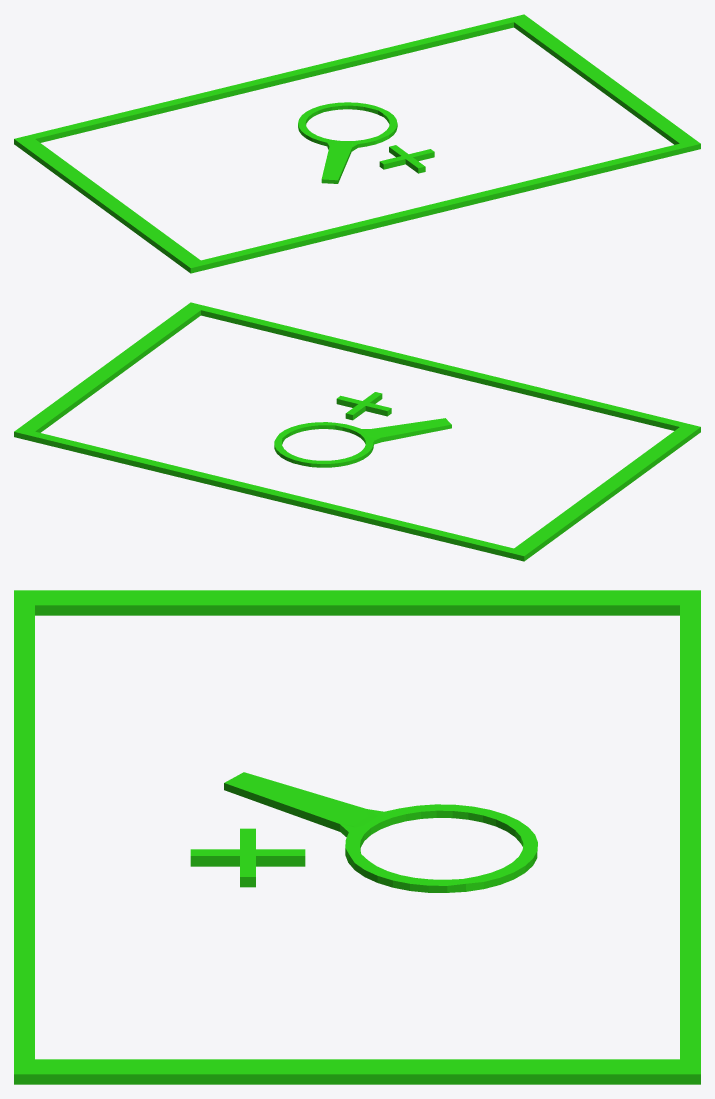
File: zoomPicturePlate.gltf
The picture shows the model from 3 angles, top to bottom: view 1: azimuth 30°, elevation 25°; view 2: azimuth 150°, elevation 25°; view 3: azimuth 270°, elevation 25°; orthographic projection. The views are drawn at different scales.
Parts seen in each view (by area): view 1: Cube.003, Cylindre, Cube.001; view 2: Cube.003, Cylindre, Cube.001; view 3: Cube.003, Cylindre, Cube.001.
Boxes of the visible parts, x1,y1,x2,y2 form: Cube.003: (14, 14, 700, 273); Cylindre: (298, 102, 397, 183); Cube.001: (379, 145, 434, 173); Cube.003: (14, 302, 700, 561); Cylindre: (274, 418, 451, 467); Cube.001: (336, 392, 391, 420); Cube.003: (14, 590, 700, 1084); Cylindre: (224, 772, 537, 892); Cube.001: (190, 828, 305, 887).
Bounding box in the file's own units: 5 × 0.05 × 3.
